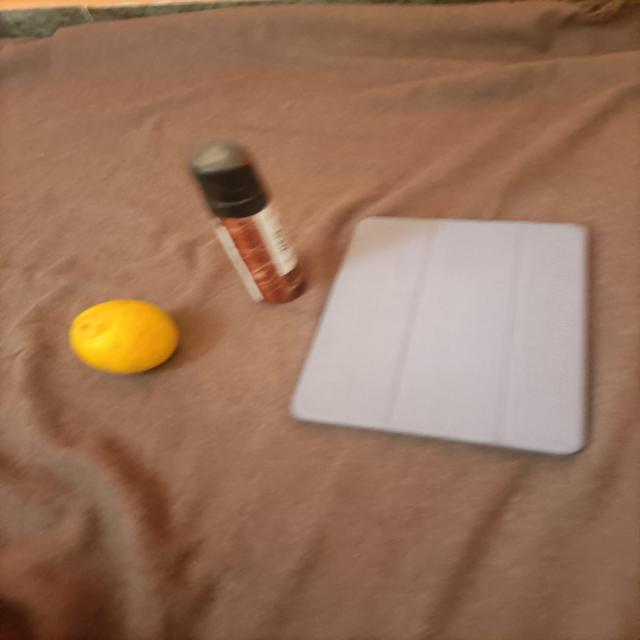orange: (51, 296, 195, 388)
spray: (154, 135, 321, 326)
tablet: (280, 210, 607, 470)
